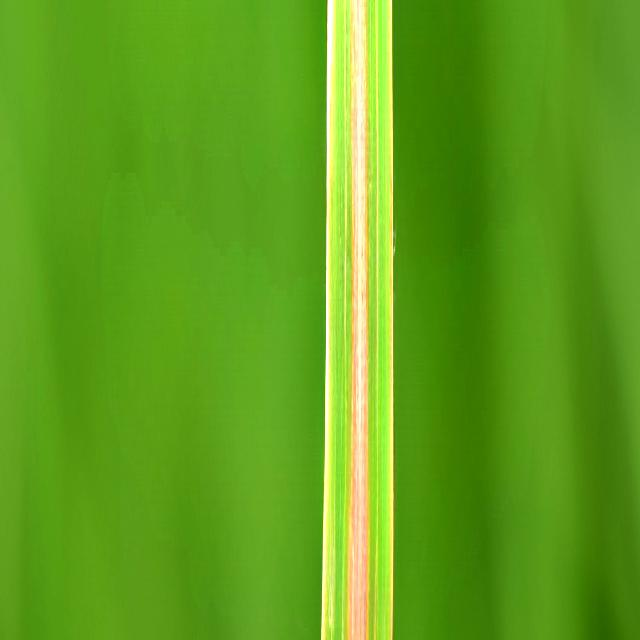BLB: (347, 0, 370, 640), (328, 0, 333, 20)
